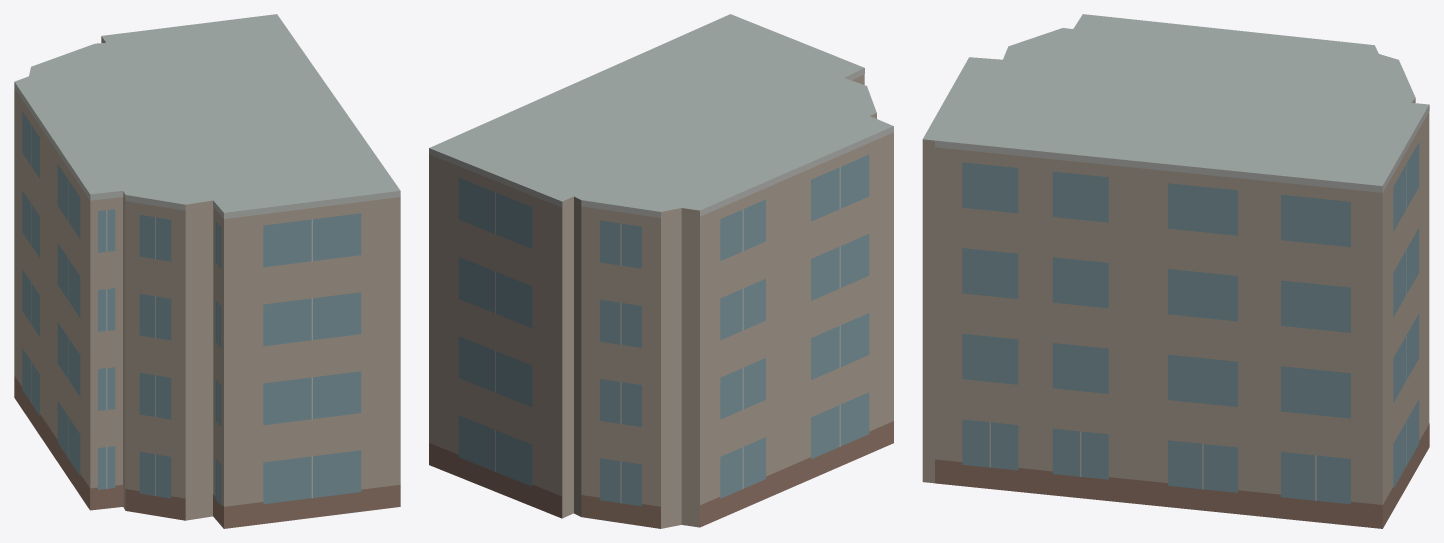
Rendered from survey-upis-32723448.glb.
The picture shows the model from 3 angles, left to right: view 1: azimuth 30°, elevation 25°; view 2: azimuth 150°, elevation 25°; view 3: azimuth 270°, elevation 25°; orthographic projection. The views are drawn at different scales.
Visible parts, largest first — view 1: survey-upis-32723448.tmp; view 2: survey-upis-32723448.tmp; view 3: survey-upis-32723448.tmp.
Part boxes in pixels (bbox=[...]): survey-upis-32723448.tmp: bbox=[14, 14, 400, 528]; survey-upis-32723448.tmp: bbox=[429, 14, 893, 528]; survey-upis-32723448.tmp: bbox=[922, 14, 1429, 528].
Bounding box in the file's own units: 13.47 × 12.5 × 16.76.
